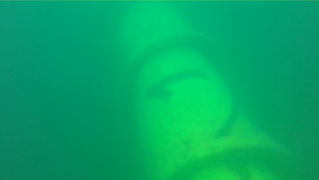1: (145, 68, 209, 99)
pipe: (109, 1, 303, 179)
